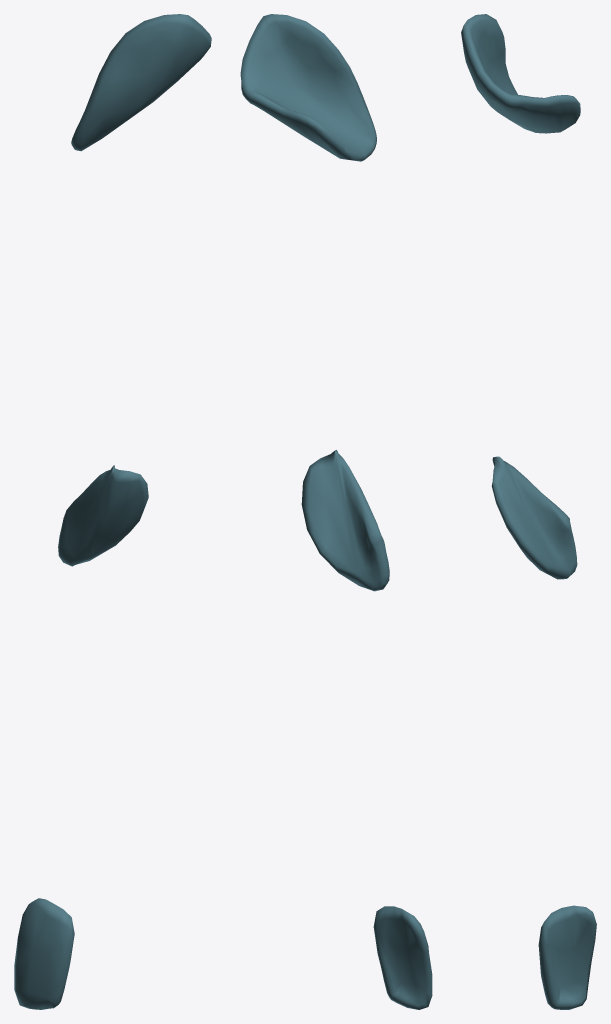
Rendered from Scalene_anterior_muscle_on_transverse_processes.r_Generated_Mes.glb.
The picture shows the model from 3 angles, left to right: view 1: azimuth 30°, elevation 25°; view 2: azimuth 210°, elevation 25°; view 3: azimuth 270°, elevation 25°; orthographic projection. The views are drawn at different scales.
Visible parts, largest first — view 1: Scalene_anterior_muscle_on_transverse_processes.r_Generated_; view 2: Scalene_anterior_muscle_on_transverse_processes.r_Generated_; view 3: Scalene_anterior_muscle_on_transverse_processes.r_Generated_.
Boxes of the visible parts, box(x1,y1,x2,y2) form: Scalene_anterior_muscle_on_transverse_processes.r_Generated_: box(14, 14, 211, 1009); Scalene_anterior_muscle_on_transverse_processes.r_Generated_: box(240, 14, 432, 1009); Scalene_anterior_muscle_on_transverse_processes.r_Generated_: box(461, 14, 596, 1009).
Bounding box in the file's own units: 0.0058 × 0.0359 × 0.00426.
